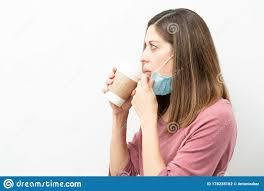Wore Mask Incorrectly: (119, 10, 222, 122)
